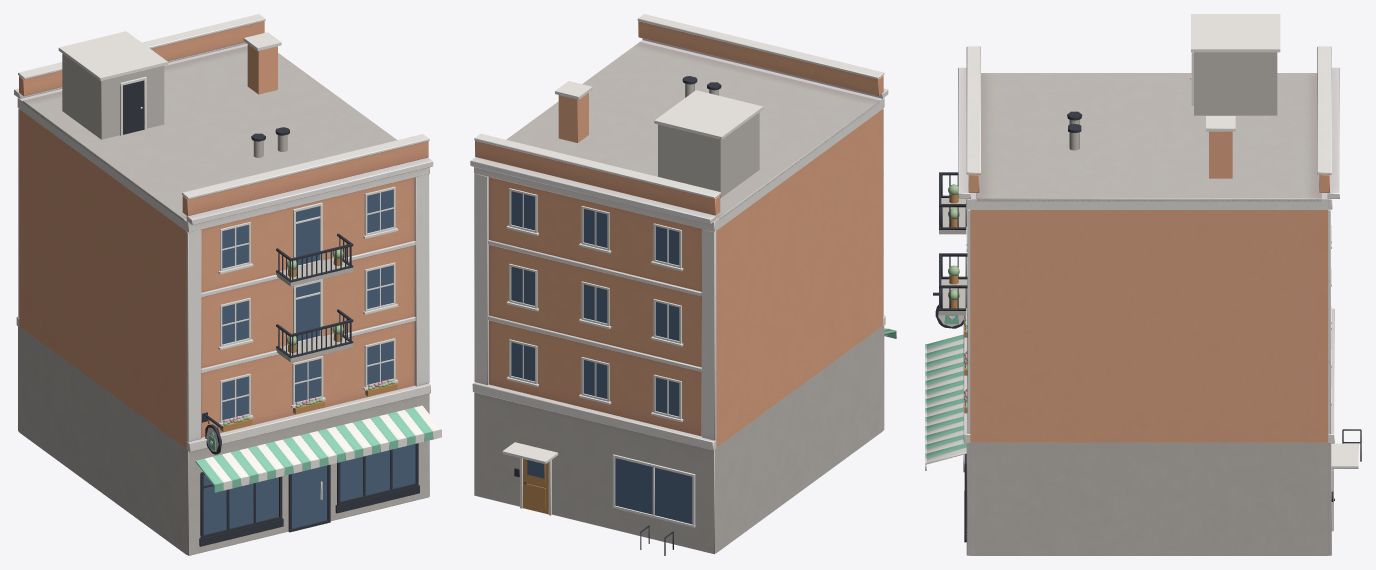
File: city-block-filler-FDNGVJZB.glb
3 renders of one model, left to right at view 1: azimuth 30°, elevation 25°; view 2: azimuth 150°, elevation 25°; view 3: azimuth 270°, elevation 25°, orthographic. The views are drawn at different scales.
Parts seen in each view (by area): view 1: city-block-filler_body, city-block-filler_details, city-block-filler_windows; view 2: city-block-filler_body, city-block-filler_details, city-block-filler_windows; view 3: city-block-filler_body, city-block-filler_details.
Boxes of the visible parts, left/top/right/bottom form: city-block-filler_body: left=14, top=14, right=433, bottom=555; city-block-filler_details: left=58, top=31, right=441, bottom=546; city-block-filler_windows: left=218, top=186, right=398, bottom=431; city-block-filler_body: left=470, top=14, right=888, bottom=554; city-block-filler_details: left=502, top=76, right=896, bottom=555; city-block-filler_windows: left=506, top=188, right=683, bottom=422; city-block-filler_body: left=958, top=46, right=1339, bottom=555; city-block-filler_details: left=925, top=14, right=1361, bottom=542.
Size of the model in its own units: 10 by 15.72 by 14.63.
Materials: 11 (1 with a texture image).
